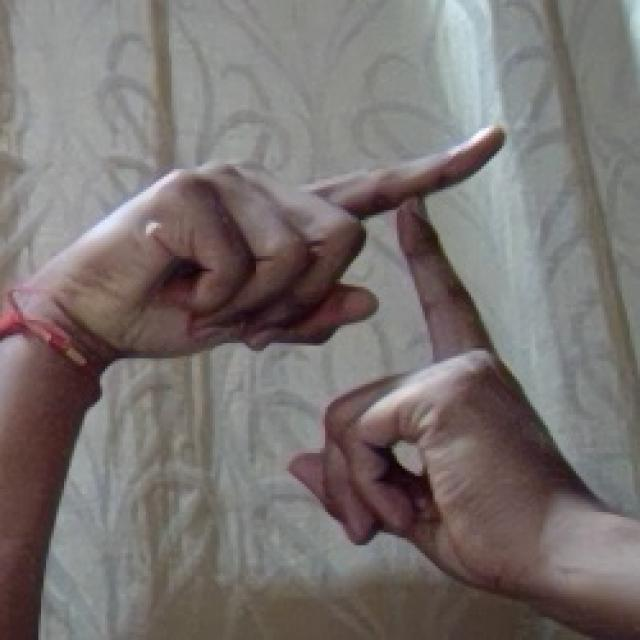Alphabet-T: (59, 123, 557, 612)
